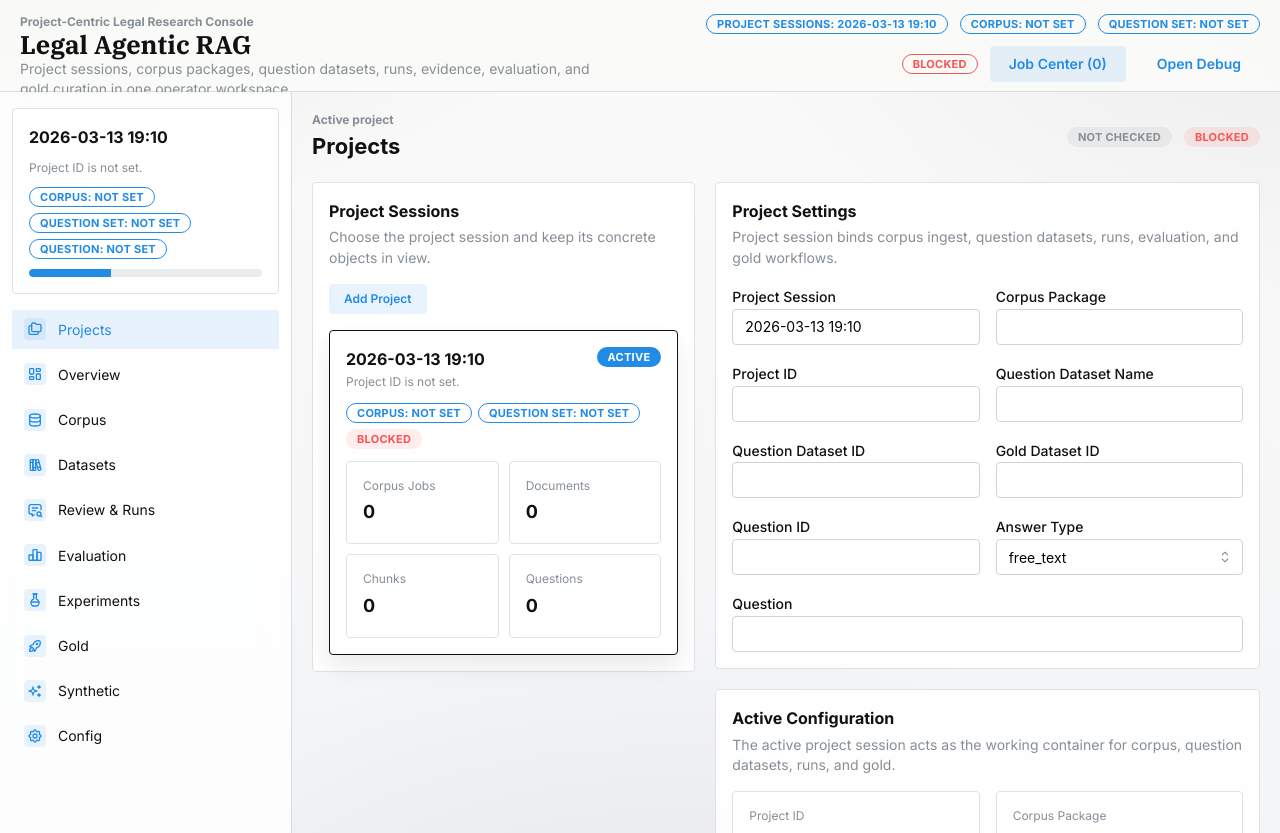
Test case: App project workspace › shows human-readable corpus labels and chunk metadata in the document viewer
The image size is (1280, 833).
Click the text "Corpus" at (82, 420), box [58,411,106,428]
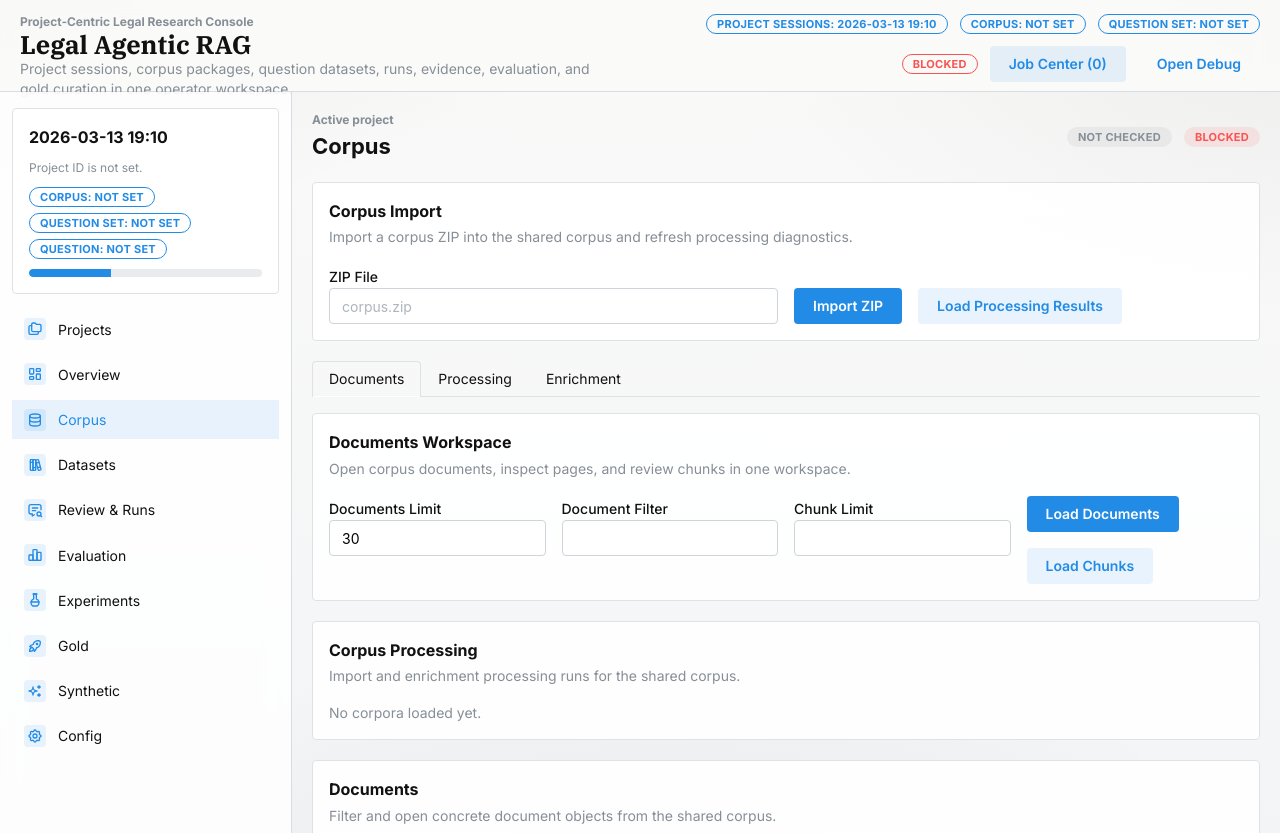
Click the tab "Documents" at (367, 380), box [312,362,421,398]
(page scrolled)
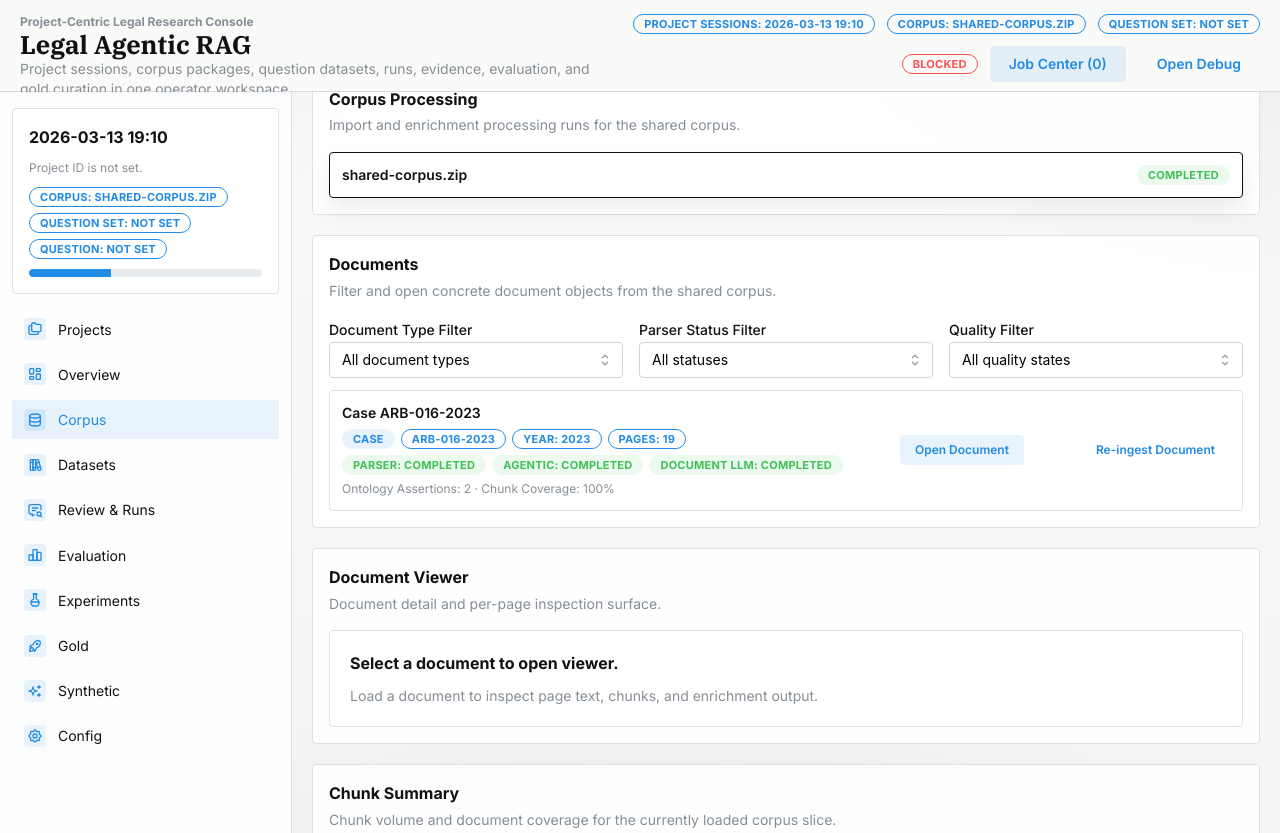
Expected: the text "Case ARB-016-2023" is shown, [342,404,481,421]
Click the button "Open Document" at (962, 450), box [900,435,1024,465]
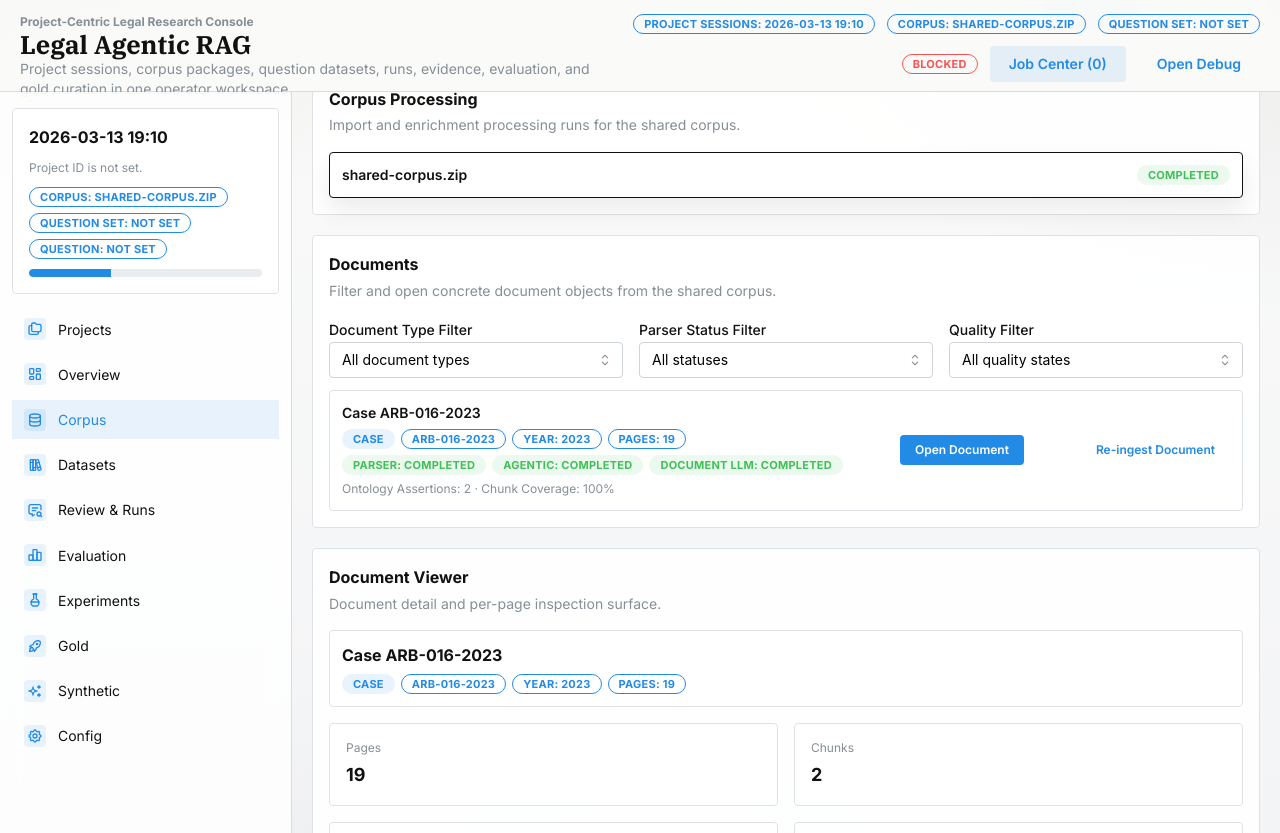
Click the button "Job Center (0)" at (1058, 64), box [990,46,1126,82]
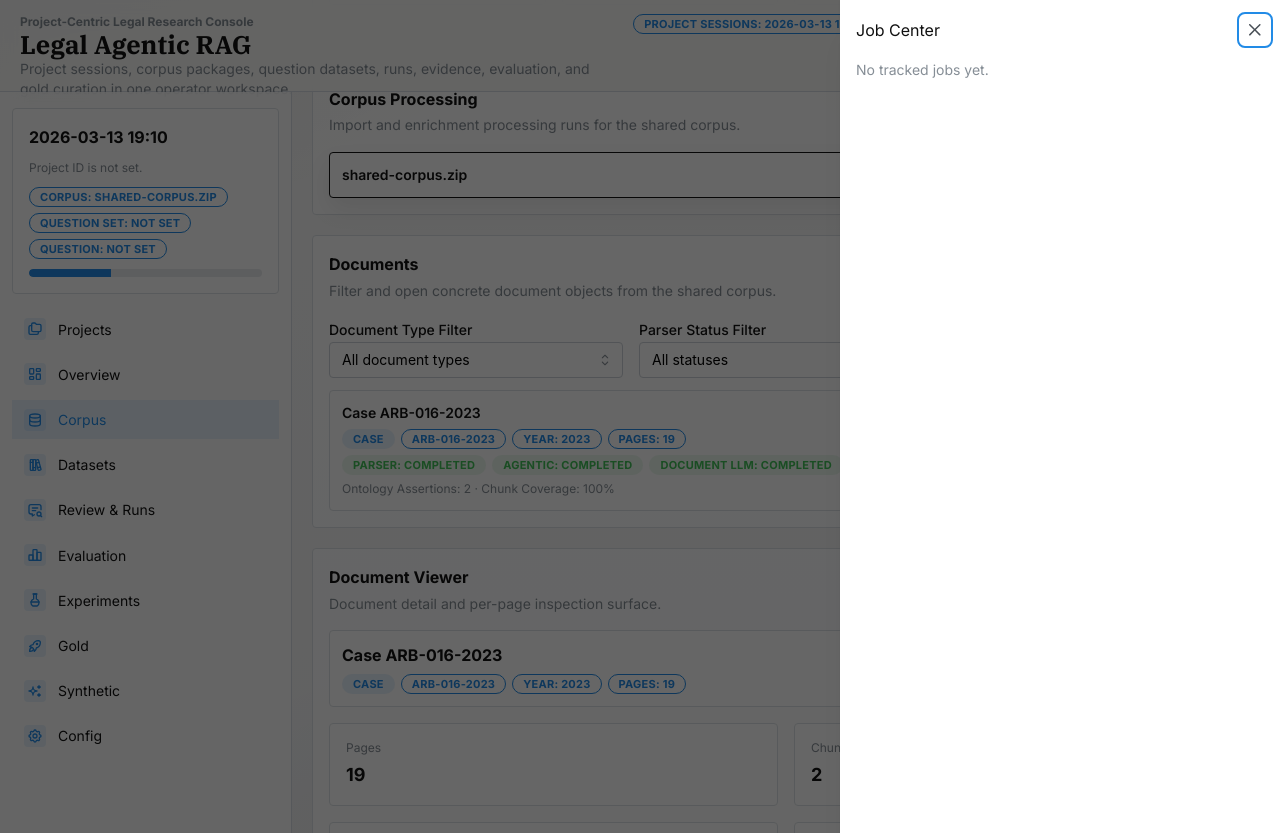
Expected: the text "No tracked jobs yet." is shown, [856,61,989,78]
